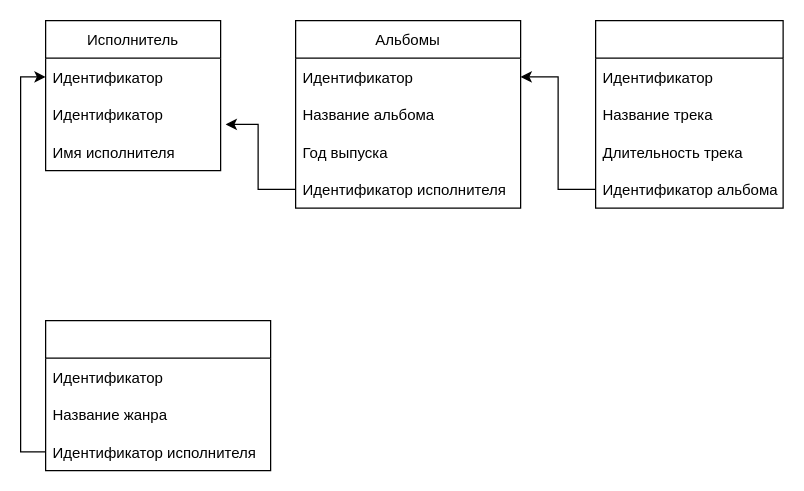
Image size: 804x491. Some labels were removed from this diagram. Each missing label, with the box of its shape:
Жанры: (44, 319, 271, 471)
Треки: (594, 19, 783, 208)
